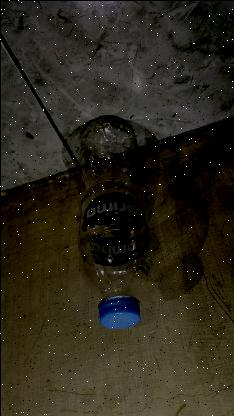Plastic Bottle: (78, 112, 150, 330)
